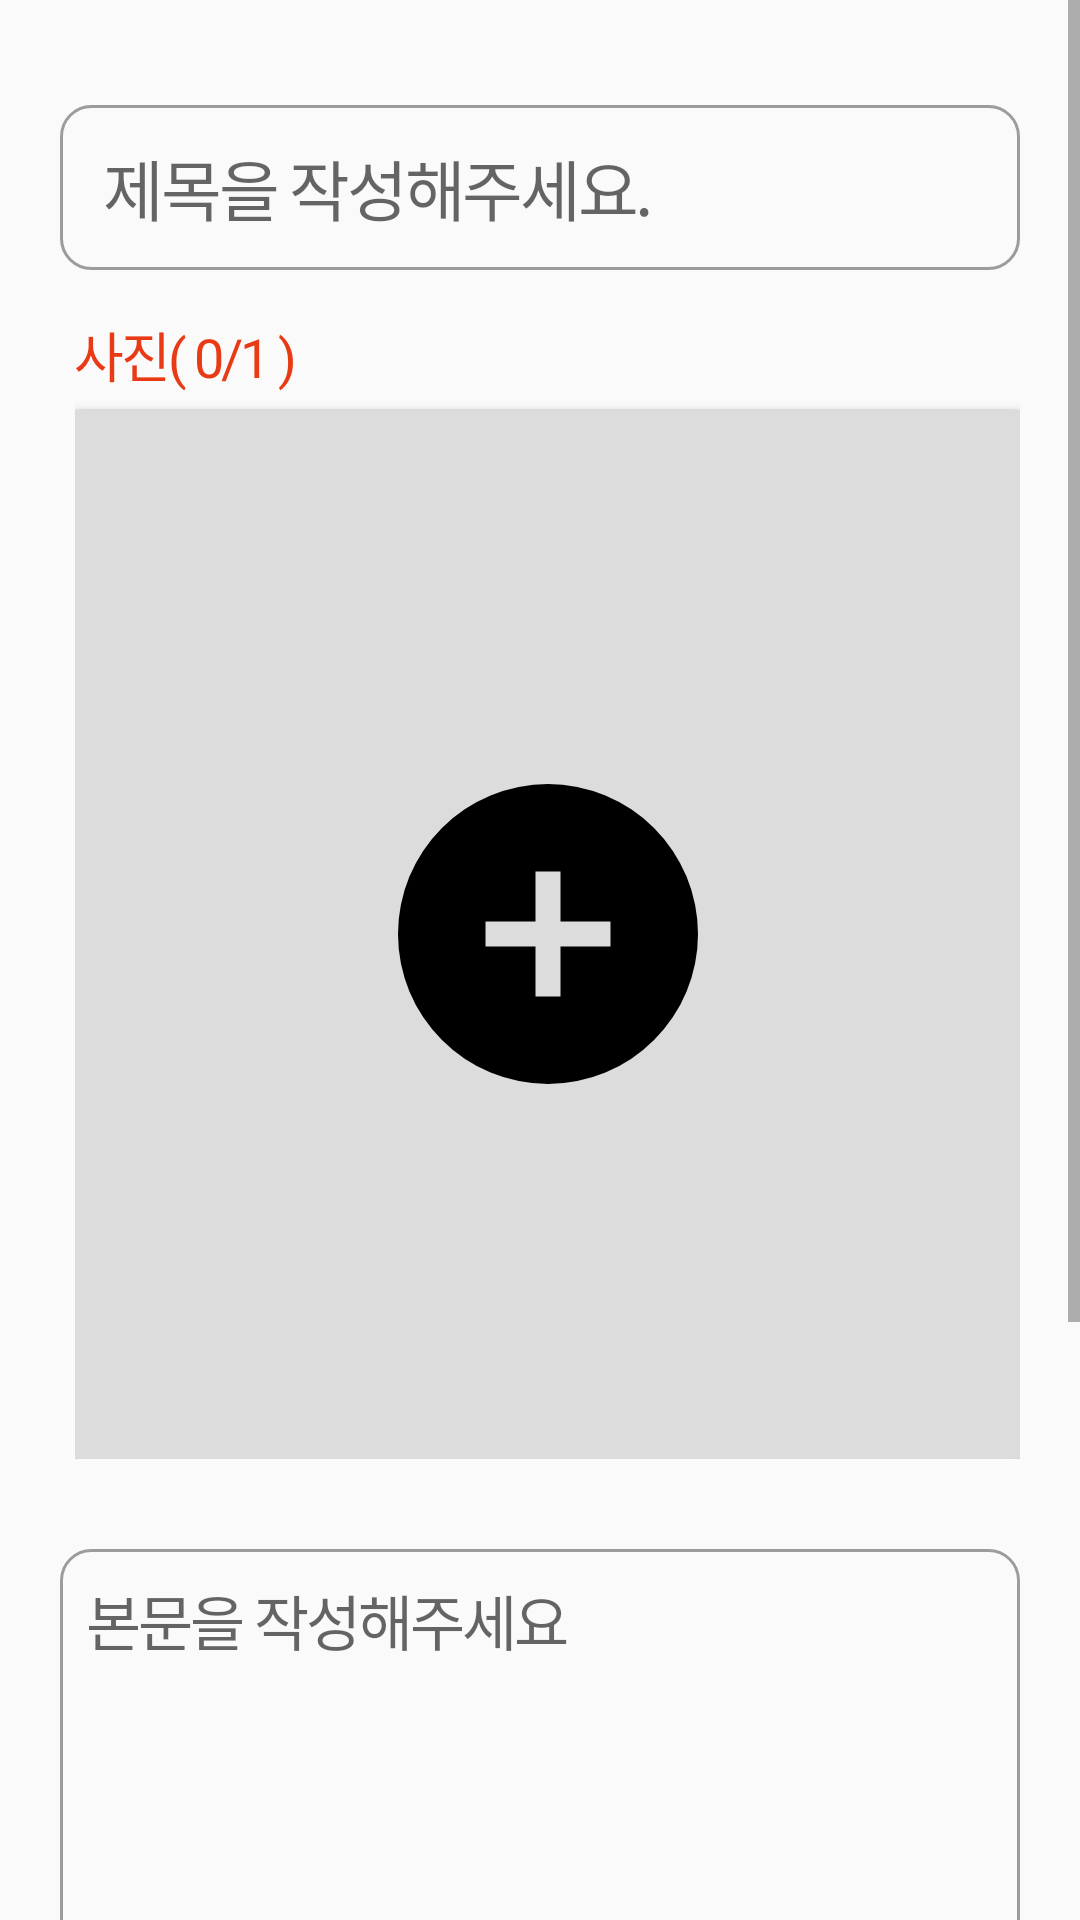

Where to tap for icons on this 1080*1920 app screen, as [x,y]:
add: [548,934]
